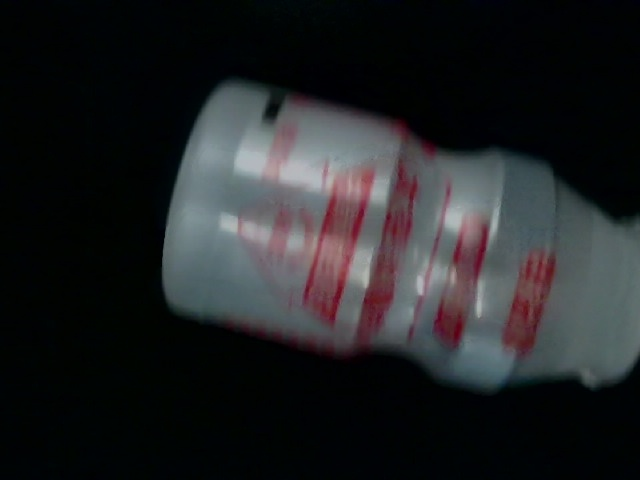CYLJ: (324, 3, 640, 256)
